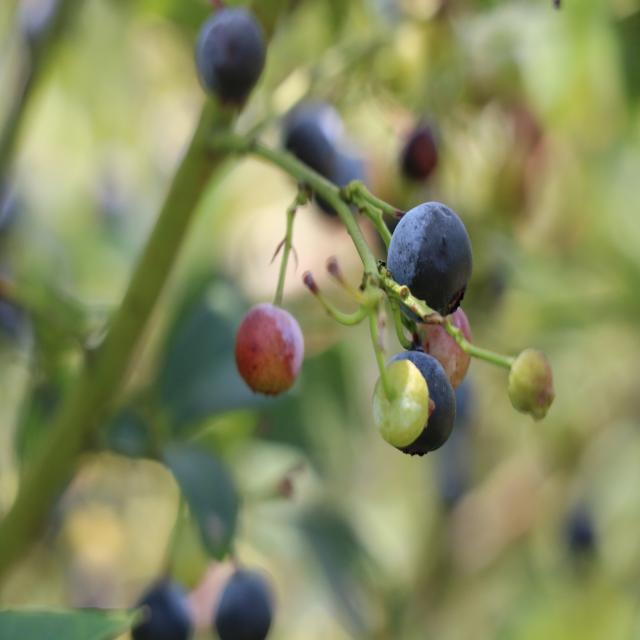blueberry: (380, 196, 475, 326), (374, 347, 460, 465), (190, 5, 271, 116), (206, 558, 282, 640), (274, 107, 344, 185), (120, 574, 198, 640), (315, 148, 370, 222)
blueberry-halfripe: (231, 297, 305, 399), (429, 306, 474, 381)
blueberry-unripe: (370, 355, 432, 446), (508, 342, 556, 432)
